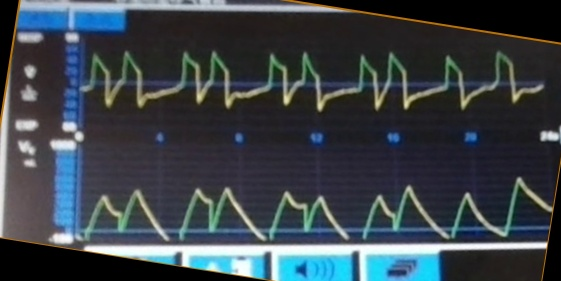Double_Triggering Flow: (85, 46, 412, 118)
Double_Triggering Volume: (81, 175, 447, 243)
